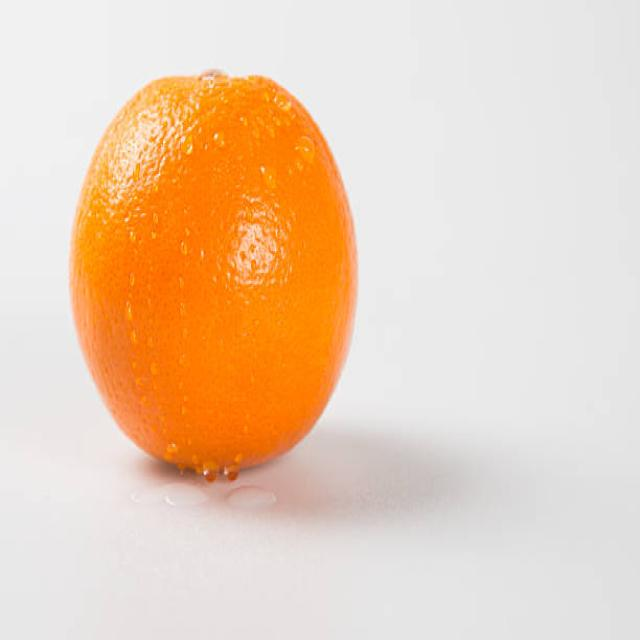Ripe: (61, 70, 362, 484)
